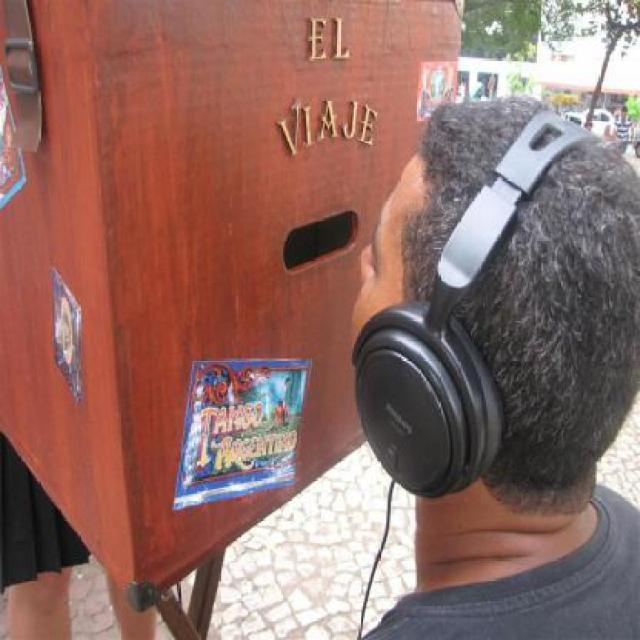earphone: (327, 150, 563, 518)
